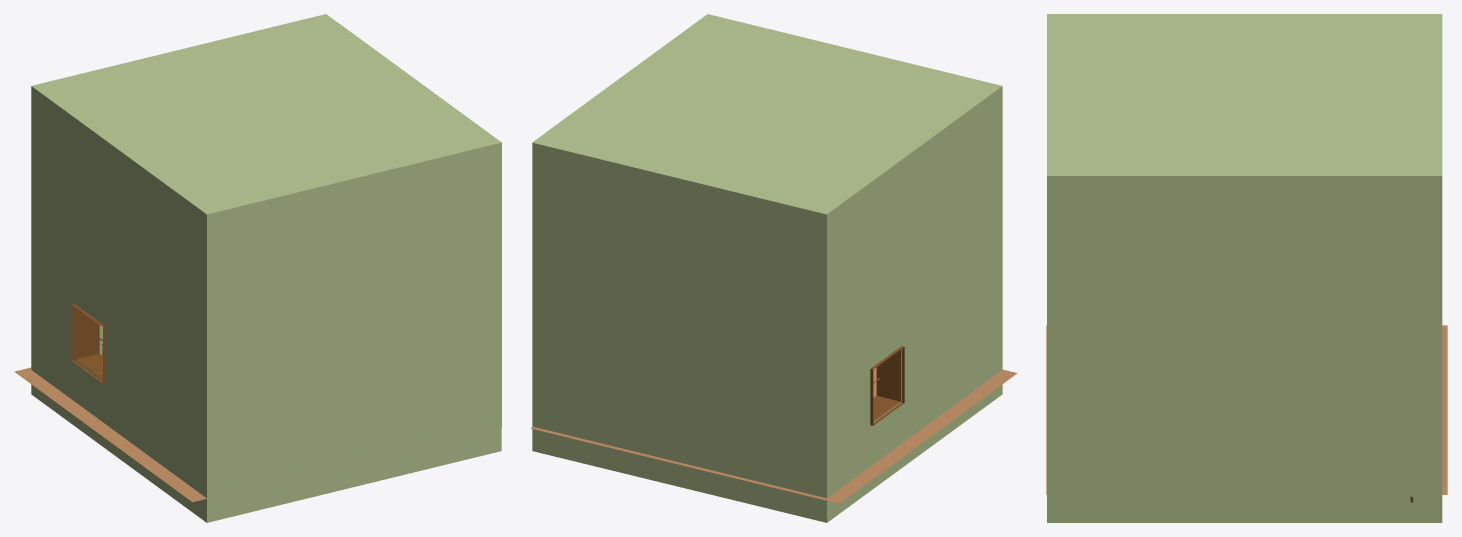
The model's file is room_v16.glb.
3 views of the same model, side by side, from view 1: azimuth 30°, elevation 25°; view 2: azimuth 150°, elevation 25°; view 3: azimuth 270°, elevation 25° (orthographic). The views are drawn at different scales.
Parts seen in each view (by area): view 1: walls, Plane.009, window_frame; view 2: walls, Plane.009, window_frame; view 3: walls, Plane.009.
Boxes of the visible parts, x1,y1,x2,y2 form: walls: [31, 14, 501, 522]; Plane.009: [14, 367, 501, 502]; window_frame: [71, 304, 105, 383]; walls: [532, 14, 1002, 522]; Plane.009: [530, 367, 1017, 503]; window_frame: [870, 346, 904, 425]; walls: [1047, 14, 1442, 522]; Plane.009: [1046, 325, 1447, 494].
Size of the model in its own units: 8.37 by 7.97 by 8.35.
